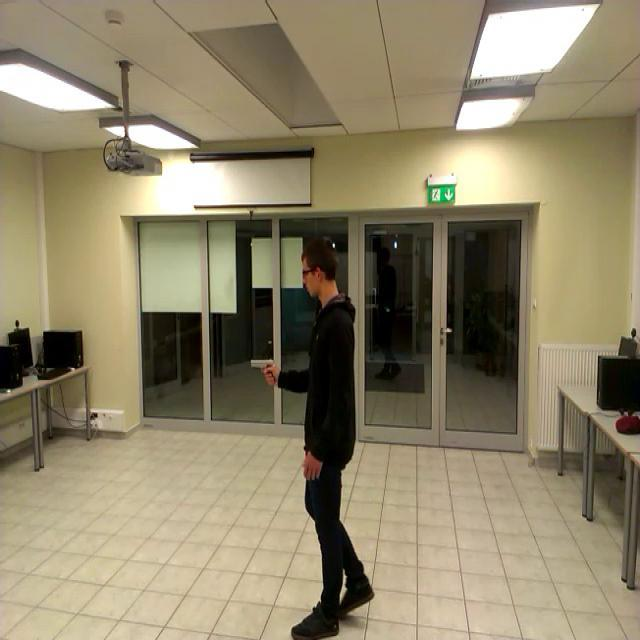Gun: (250, 358, 275, 380)
